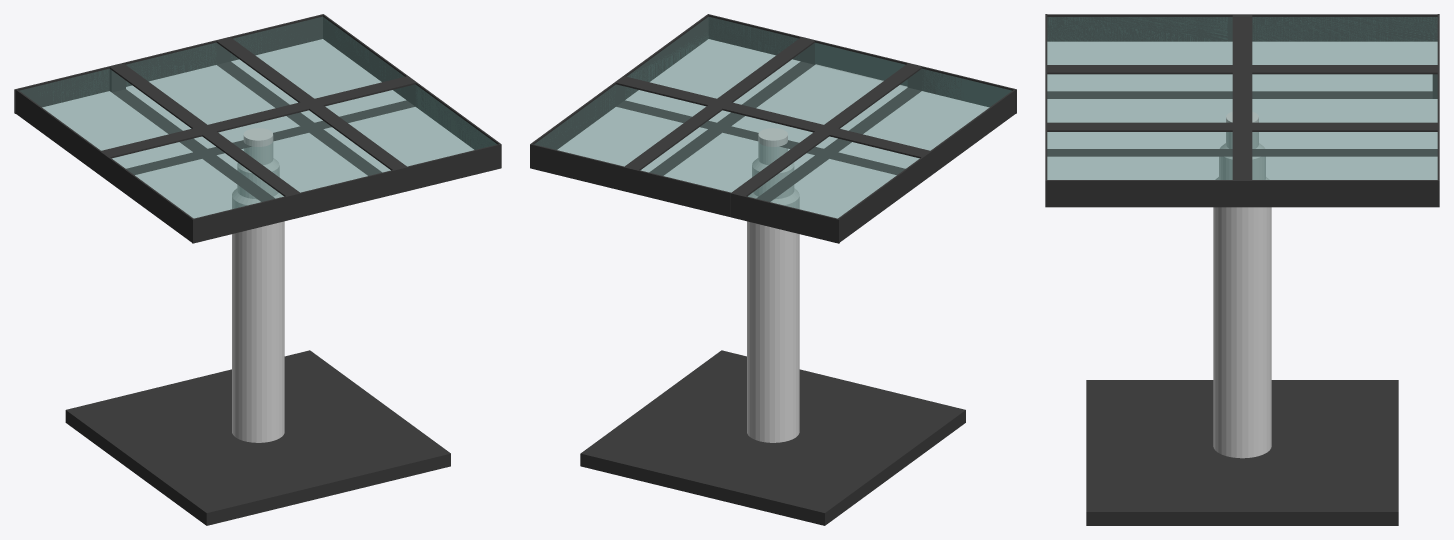
File: piston.fbx
The picture shows the model from 3 angles, left to right: view 1: azimuth 30°, elevation 25°; view 2: azimuth 150°, elevation 25°; view 3: azimuth 270°, elevation 25°; orthographic projection. The views are drawn at different scales.
Visible parts, largest first — view 1: Glass, Bands, Base, Piston; view 2: Glass, Bands, Base, Piston; view 3: Glass, Base, Bands, Piston.
Part boxes in pixels (bbox=[...]): Glass: bbox=[20, 17, 497, 218]; Bands: bbox=[14, 14, 501, 243]; Base: bbox=[65, 350, 450, 525]; Piston: bbox=[232, 128, 284, 442]; Glass: bbox=[534, 17, 1011, 218]; Bands: bbox=[530, 14, 1016, 243]; Base: bbox=[580, 350, 965, 525]; Piston: bbox=[747, 128, 799, 442]; Glass: bbox=[1047, 17, 1437, 179]; Base: bbox=[1086, 380, 1398, 525]; Bands: bbox=[1045, 14, 1439, 207]; Piston: bbox=[1213, 112, 1271, 458].
Size of the model in its own units: 2.02 by 2.05 by 2.02.
